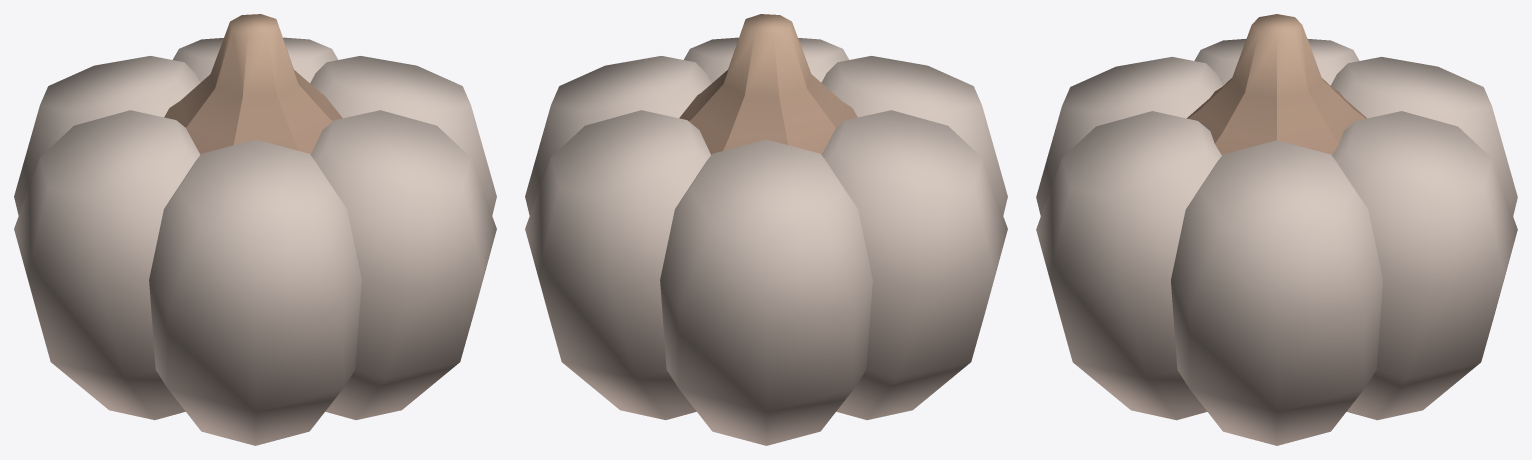
File: pumpkin-small.glb
The picture shows the model from 3 angles, left to right: view 1: azimuth 30°, elevation 25°; view 2: azimuth 150°, elevation 25°; view 3: azimuth 270°, elevation 25°; orthographic projection.
Parts seen in each view (by area): view 1: pumpkin-small; view 2: pumpkin-small; view 3: pumpkin-small.
Part boxes in pixels (x1,y1,x2,y2): pumpkin-small: [14, 14, 496, 445]; pumpkin-small: [525, 14, 1007, 445]; pumpkin-small: [1036, 14, 1517, 445].
Size of the model in its own units: 0.4428 by 0.3251 by 0.4061.
